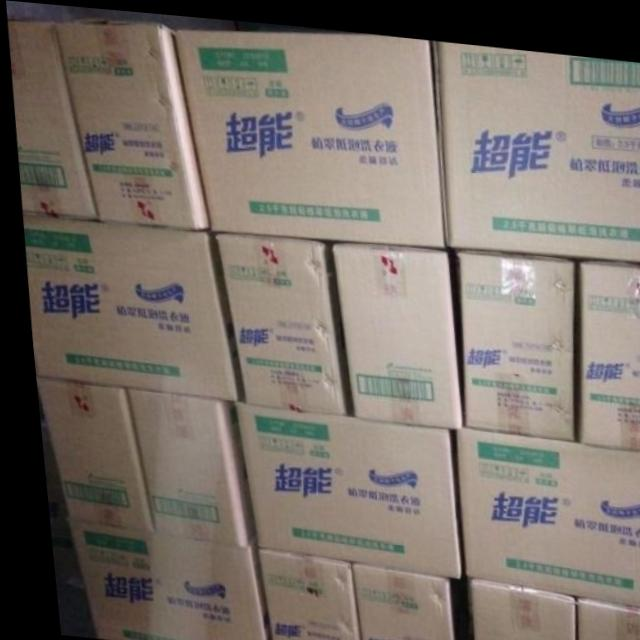box: (173, 25, 440, 240), (433, 32, 640, 251), (223, 394, 450, 569), (18, 214, 233, 397), (448, 419, 640, 598), (51, 19, 206, 227), (56, 516, 260, 640), (210, 230, 339, 409), (328, 237, 453, 420), (452, 241, 570, 430), (117, 385, 246, 543), (6, 17, 95, 219), (28, 376, 143, 529), (570, 249, 640, 439), (246, 545, 349, 640), (340, 557, 444, 640), (459, 569, 565, 640), (565, 586, 640, 640)
